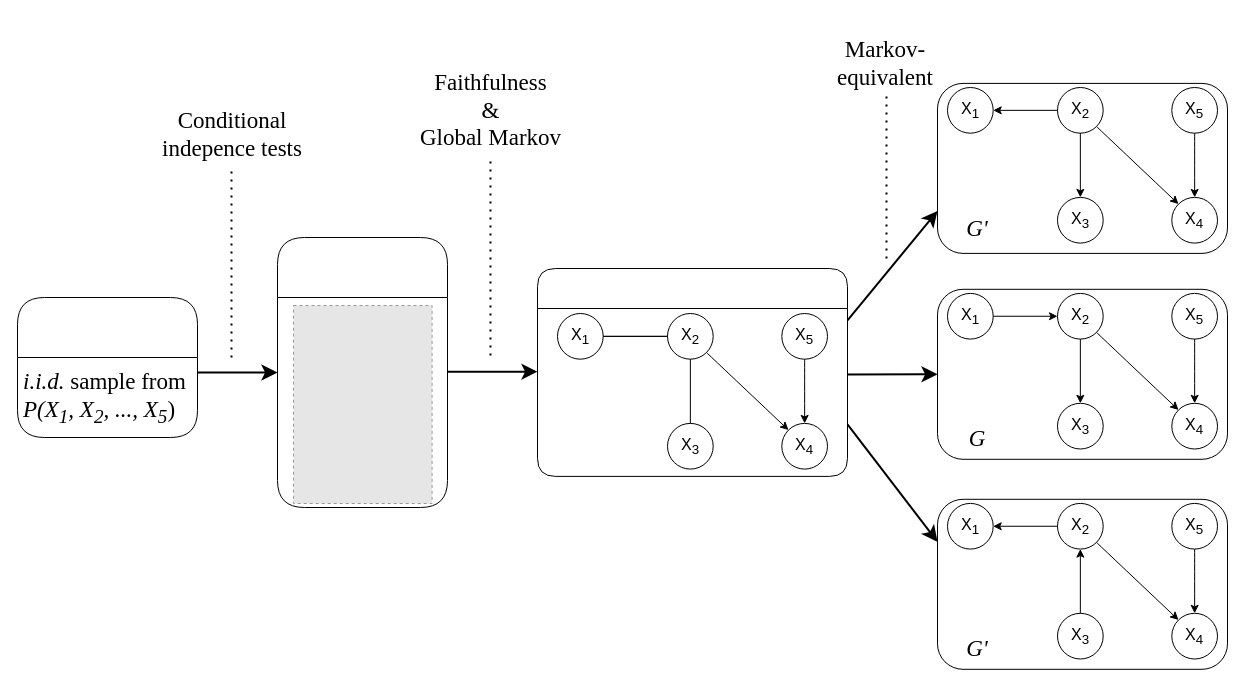
This 1245x687 diagram has some shape labels left out. Grey dashed boxes stand in for pictures. The box of each missing label's shape, as (x1, y1, x2, y2) in pixels:
Observational data: (16, 296, 198, 438)
Output: (536, 268, 848, 476)
Statistical independencies: (276, 236, 448, 508)
